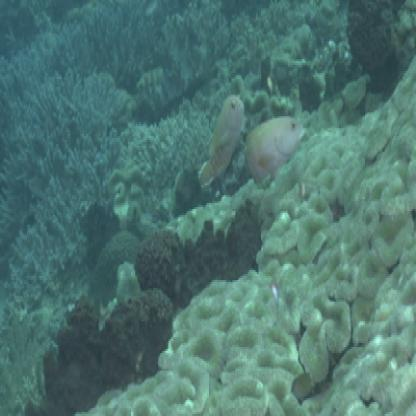Serranidae -Groupers-: (234, 100, 306, 202), (193, 86, 251, 200)
